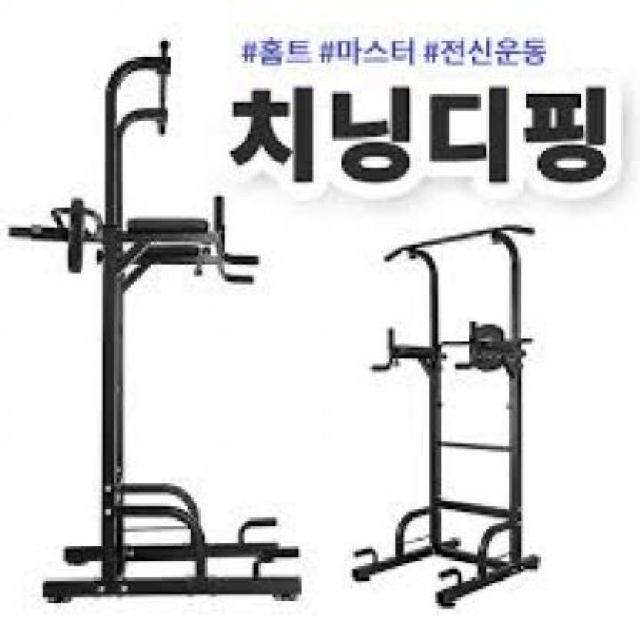chinning dipping: (9, 40, 260, 603), (349, 222, 540, 609)
